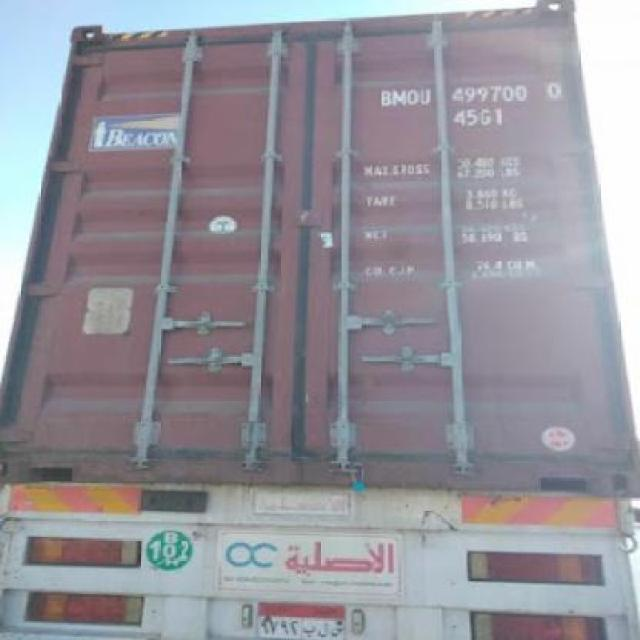ISO: (456, 108, 504, 129)
container_number: (383, 80, 561, 104)
